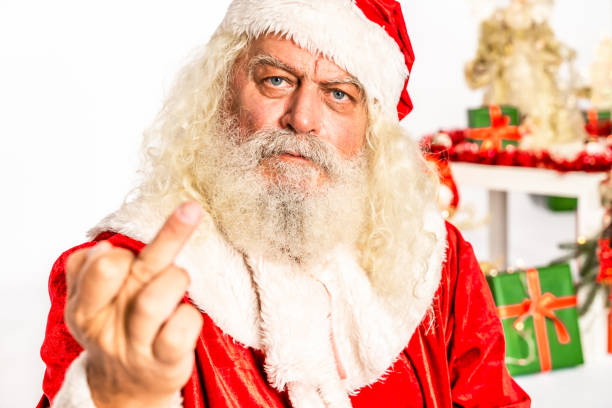insulting_gesture: (63, 197, 206, 408)
